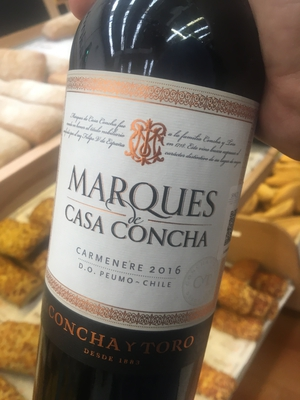marques de casa concha carmenere: (35, 16, 269, 392)
